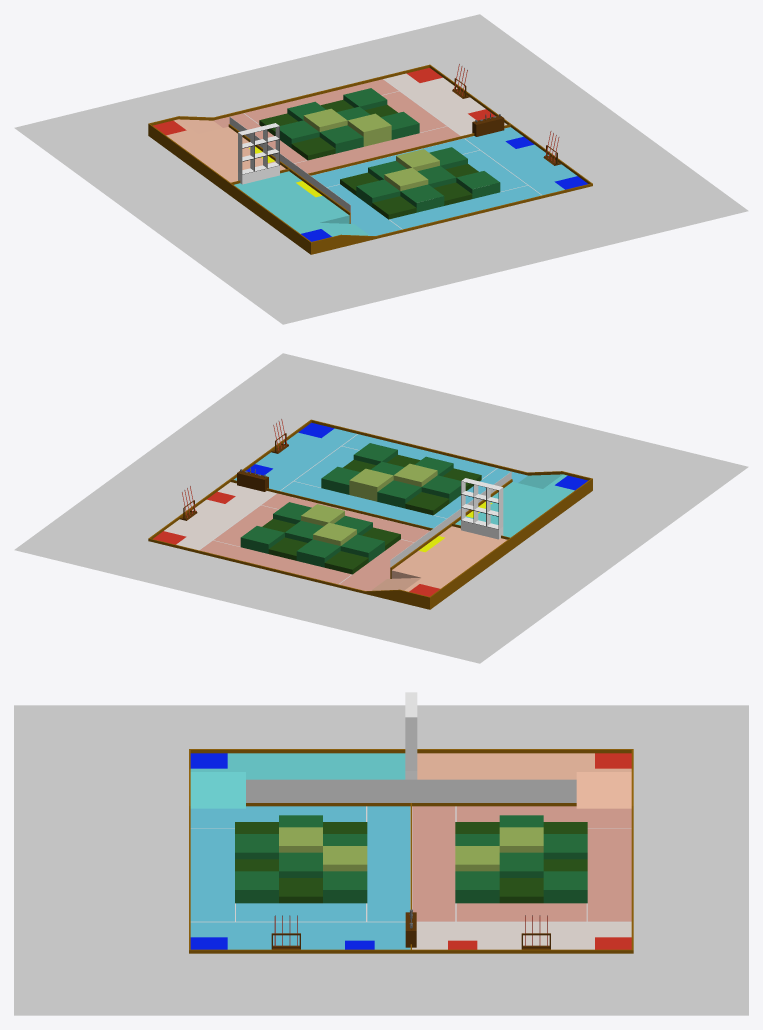
Rendered from robocon2026.dae.
3 views of the same model, one above another, from view 1: azimuth 30°, elevation 25°; view 2: azimuth 150°, elevation 25°; view 3: azimuth 270°, elevation 25° (orthographic). The views are drawn at different scales.
Parts seen in each view (by area): view 1: 平面.005, 主地图, 平面.006, 区域三放置架, 主地图.002; view 2: 平面.005, 主地图, 平面.006, 区域三放置架, 主地图.002; view 3: 平面.005, 主地图, 主地图.002, 平面.006, 2-3区围栏, 区域三放置架.
Part boxes in pixels (left/top/right/bottom): 平面.005: left=14, top=14, right=748, bottom=324; 主地图: left=153, top=68, right=587, bottom=241; 平面.006: left=148, top=64, right=592, bottom=254; 区域三放置架: left=238, top=123, right=279, bottom=184; 主地图.002: left=229, top=117, right=350, bottom=221; 平面.005: left=14, top=353, right=748, bottom=663; 主地图: left=153, top=422, right=587, bottom=596; 平面.006: left=148, top=419, right=592, bottom=609; 区域三放置架: left=461, top=478, right=503, bottom=539; 主地图.002: left=390, top=471, right=511, bottom=567; 平面.005: left=14, top=705, right=748, bottom=1015; 主地图: left=190, top=753, right=631, bottom=949; 主地图.002: left=246, top=779, right=576, bottom=802; 平面.006: left=189, top=749, right=633, bottom=953; 2-3区围栏: left=246, top=803, right=576, bottom=806; 区域三放置架: left=405, top=692, right=417, bottom=779.
Size of the model in its own units: 20 by 20 by 2.45.
